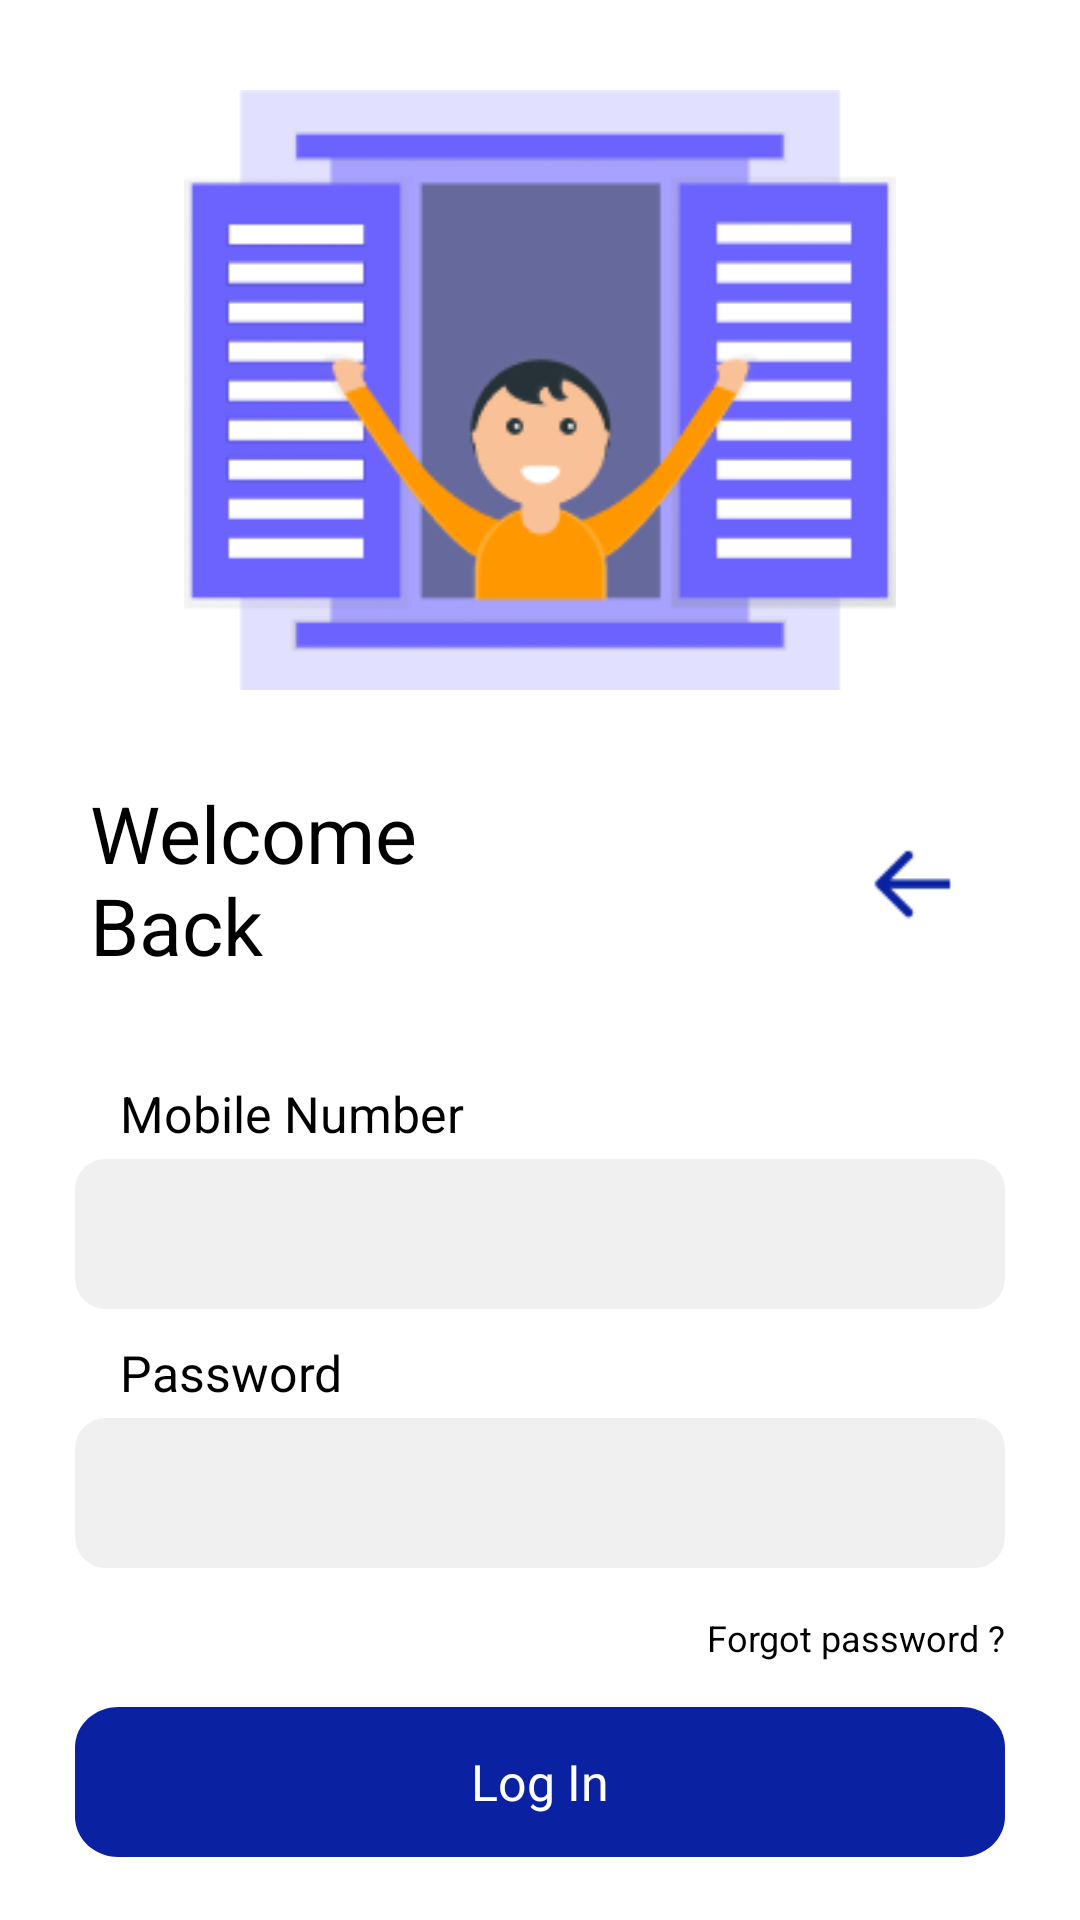

Icon bounding boxes for this 1080 × 1920 phone screenshot, format (x1, y1, x2, y2):
back: (874, 850, 951, 919)
